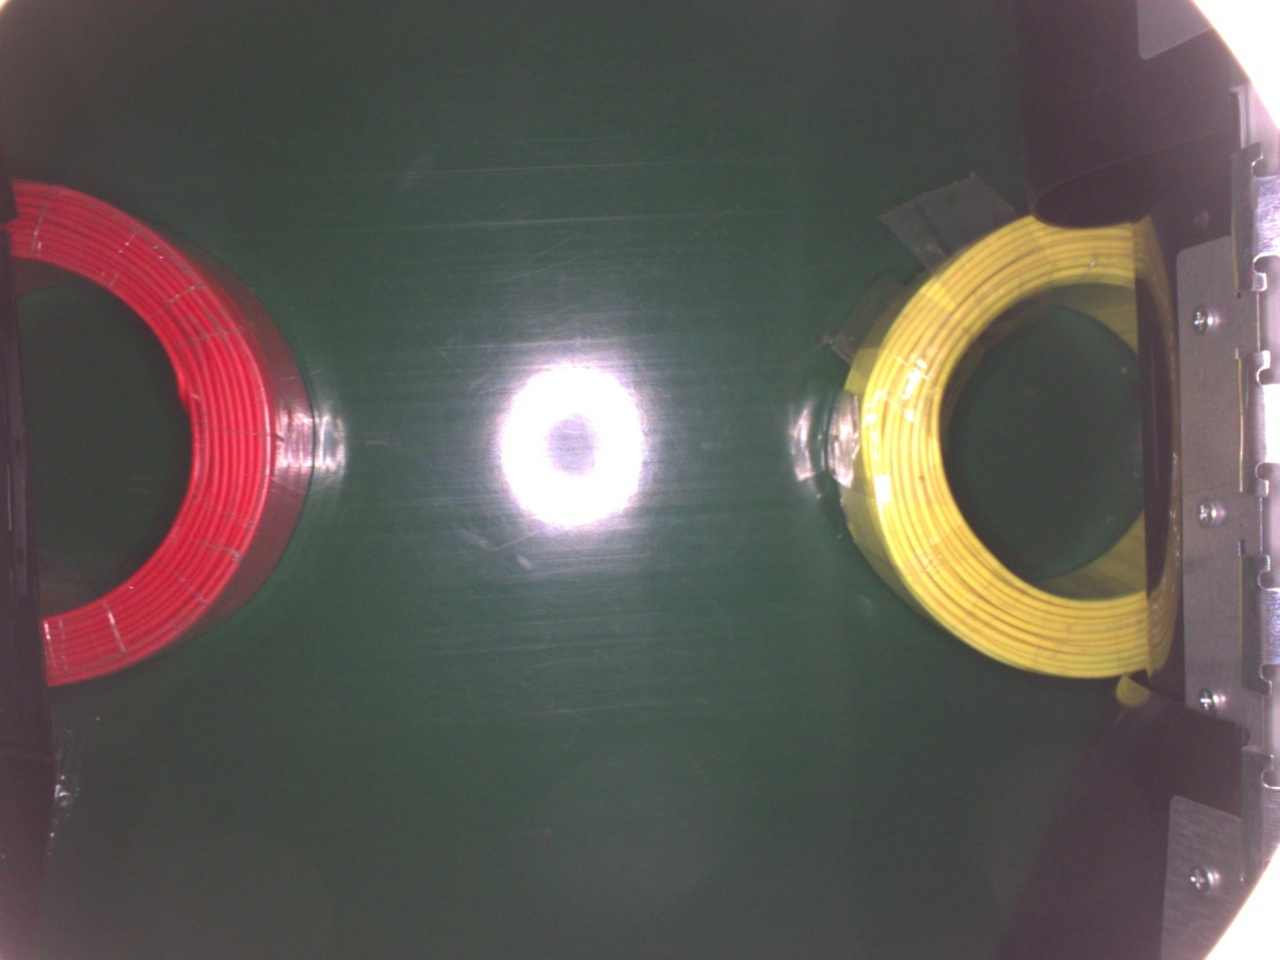red: (4, 169, 318, 690)
yellow: (819, 212, 1154, 678)
